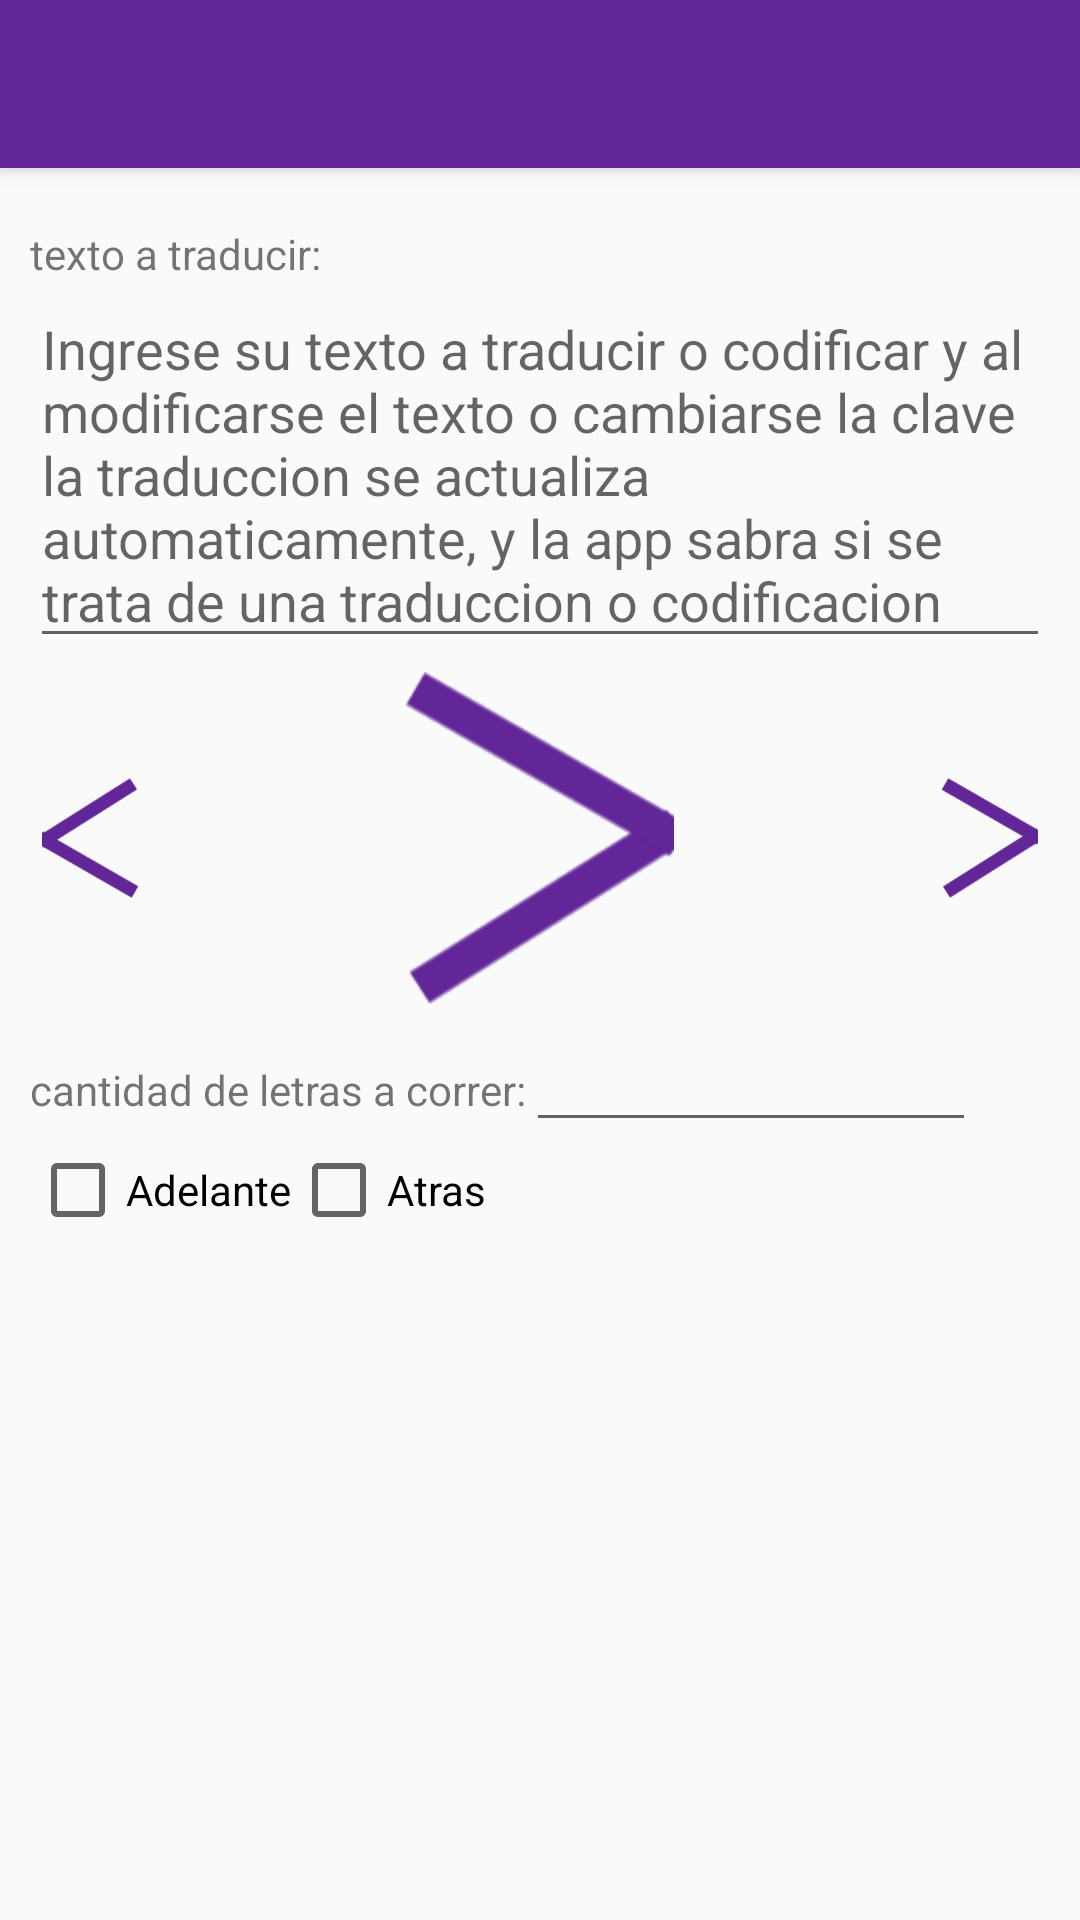

Locate icon controls on the screen. Image size 1080×1920, boxes as [x1=x1, y1=y1, x2=x2, y2=y2].
prev: [x1=42, y1=778, x2=138, y2=898]
sig: [x1=406, y1=672, x2=674, y2=1004], [x1=942, y1=778, x2=1038, y2=898]
